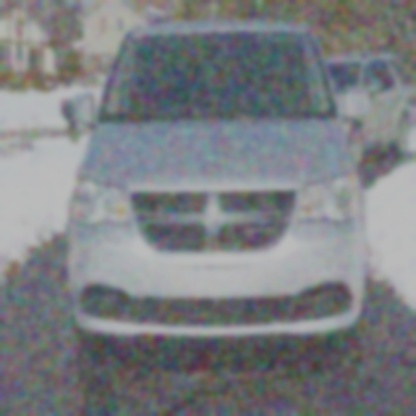Vehicle: (64, 19, 370, 340)
